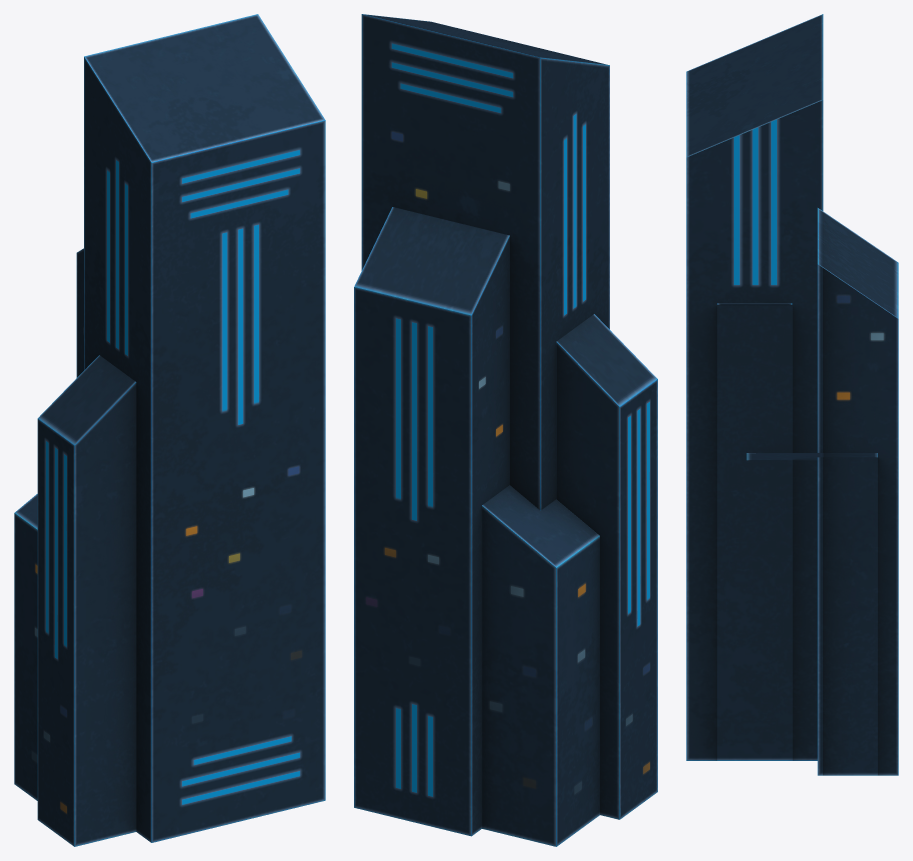
File: Building_2_1.fbx
3 views of the same model, side by side, from view 1: azimuth 30°, elevation 25°; view 2: azimuth 150°, elevation 25°; view 3: azimuth 270°, elevation 25° (orthographic). The views are drawn at different scales.
Visible parts, largest first — view 1: Building_2_1; view 2: Building_2_1; view 3: Building_2_1.
Boxes of the visible parts, <box> form: Building_2_1: <box>14,14,325,846</box>; Building_2_1: <box>354,14,657,846</box>; Building_2_1: <box>686,14,898,775</box>.
Size of the model in its own units: 6.77 by 20.24 by 5.21.
